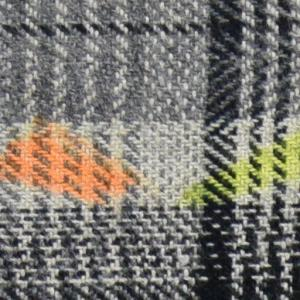Stain: (2, 112, 152, 216), (169, 121, 300, 219)
